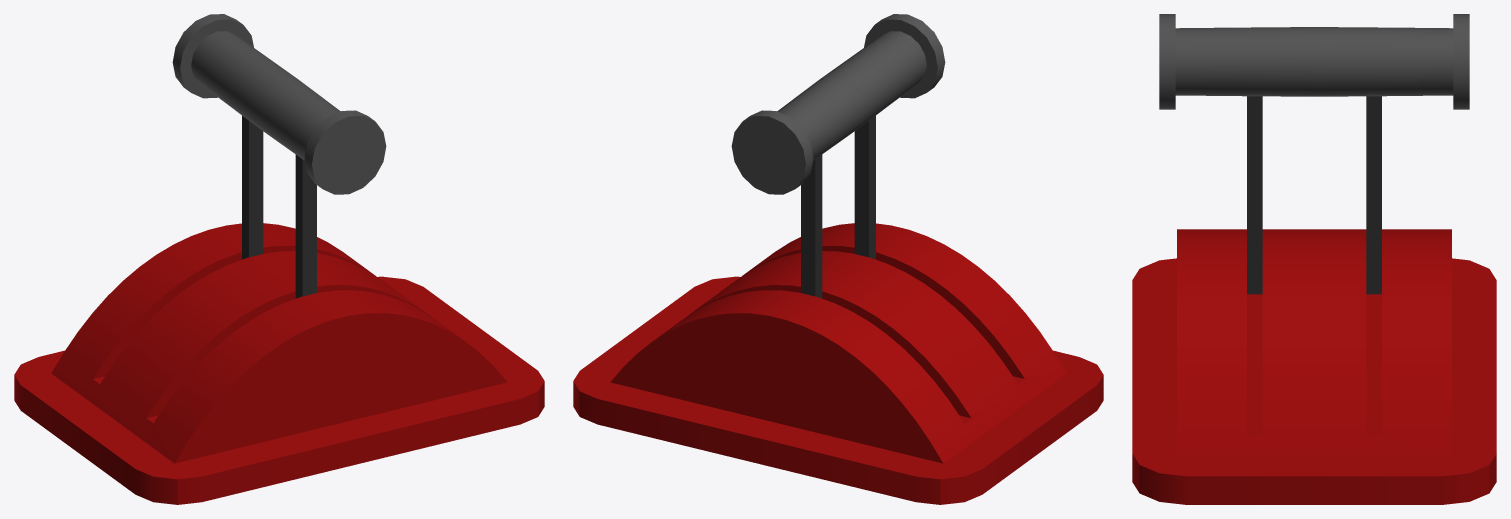
Rendered from lever.fbx.
The picture shows the model from 3 angles, left to right: view 1: azimuth 30°, elevation 25°; view 2: azimuth 150°, elevation 25°; view 3: azimuth 270°, elevation 25°; orthographic projection. The views are drawn at different scales.
Visible parts, largest first — view 1: Lever, Handle; view 2: Lever, Handle; view 3: Lever, Handle.
Part boxes in pixels (bbox=[...]): Lever: bbox=[14, 223, 544, 504]; Handle: bbox=[172, 14, 386, 298]; Lever: bbox=[573, 223, 1103, 504]; Handle: bbox=[731, 14, 945, 298]; Lever: bbox=[1132, 229, 1496, 504]; Handle: bbox=[1159, 14, 1469, 294].
Size of the model in its own units: 200 by 160 by 141.
